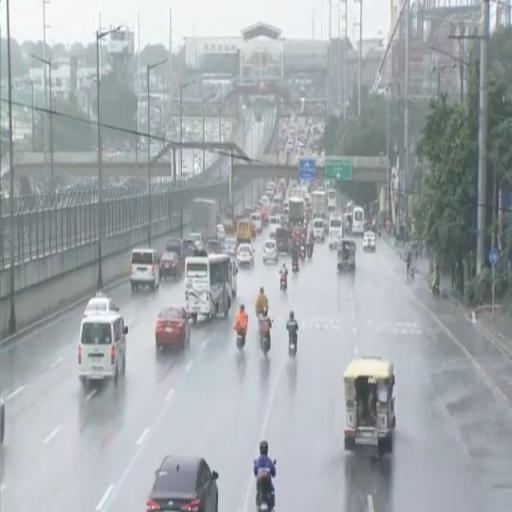bus: (185, 252, 238, 321), (352, 206, 364, 235), (327, 189, 336, 213)
car: (146, 455, 218, 511), (156, 307, 190, 349), (130, 249, 160, 291), (84, 293, 119, 316), (160, 251, 182, 279), (237, 244, 254, 266), (263, 239, 278, 263), (223, 238, 236, 258), (363, 231, 375, 251), (188, 233, 203, 248), (206, 239, 221, 253), (217, 224, 225, 239)
jeepney: (344, 357, 395, 457), (337, 239, 356, 271), (237, 217, 251, 244)
motorcycle: (256, 470, 272, 511), (289, 332, 297, 357), (280, 273, 288, 291), (237, 331, 245, 349), (300, 245, 306, 262), (292, 260, 299, 274), (432, 284, 439, 297), (307, 246, 312, 259), (263, 322, 267, 328)
truck: (191, 199, 218, 241), (289, 197, 305, 227), (312, 190, 326, 220)
